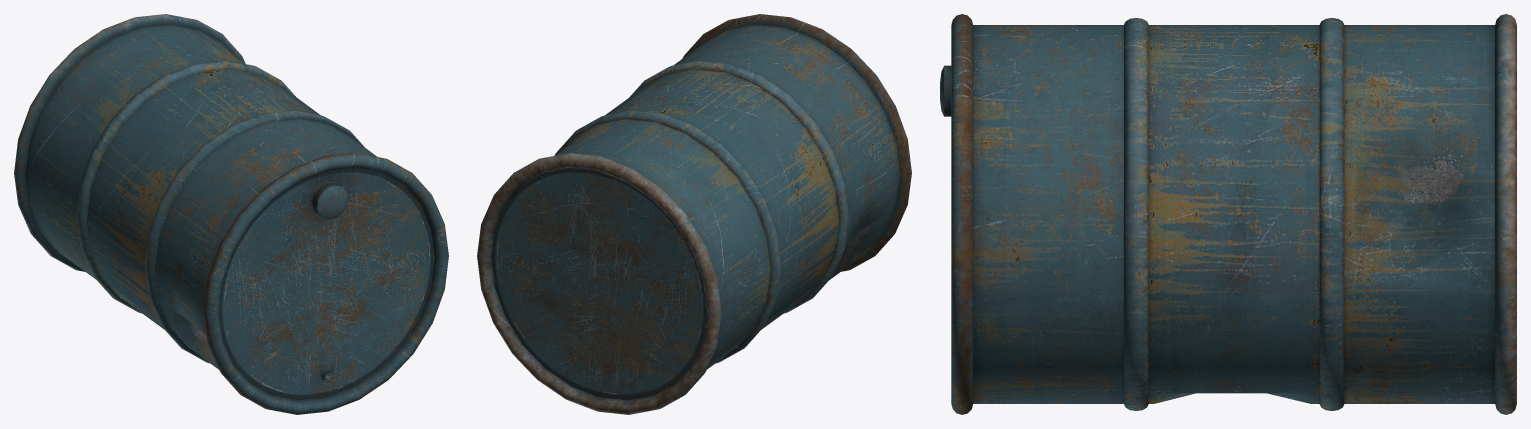
Rendered from Barrel.gltf.
3 views of the same model, side by side, from view 1: azimuth 30°, elevation 25°; view 2: azimuth 150°, elevation 25°; view 3: azimuth 270°, elevation 25° (orthographic). The views are drawn at different scales.
Parts seen in each view (by area): view 1: Barrel_LOD0; view 2: Barrel_LOD0; view 3: Barrel_LOD0.
Part boxes in pixels (x1,y1,x2,y2): Barrel_LOD0: (14,14,448,414); Barrel_LOD0: (477,14,911,414); Barrel_LOD0: (940,14,1516,414).
Size of what is drawn, in the model's own units: 0.0074 by 0.0074 by 0.0106.
Materials: 1 (1 with a texture image).
